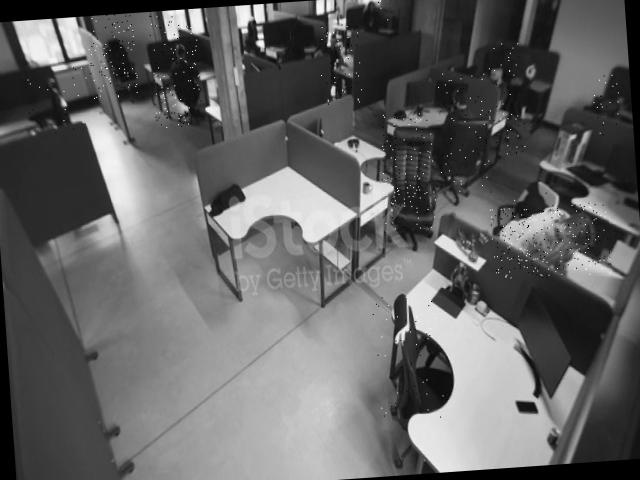empty chair: (370, 283, 446, 440), (378, 110, 438, 232), (482, 182, 554, 253), (25, 64, 94, 136), (85, 13, 138, 98), (588, 72, 621, 137)
occupiedchair: (434, 70, 492, 196), (148, 12, 203, 128), (482, 42, 526, 156), (314, 22, 362, 105)
